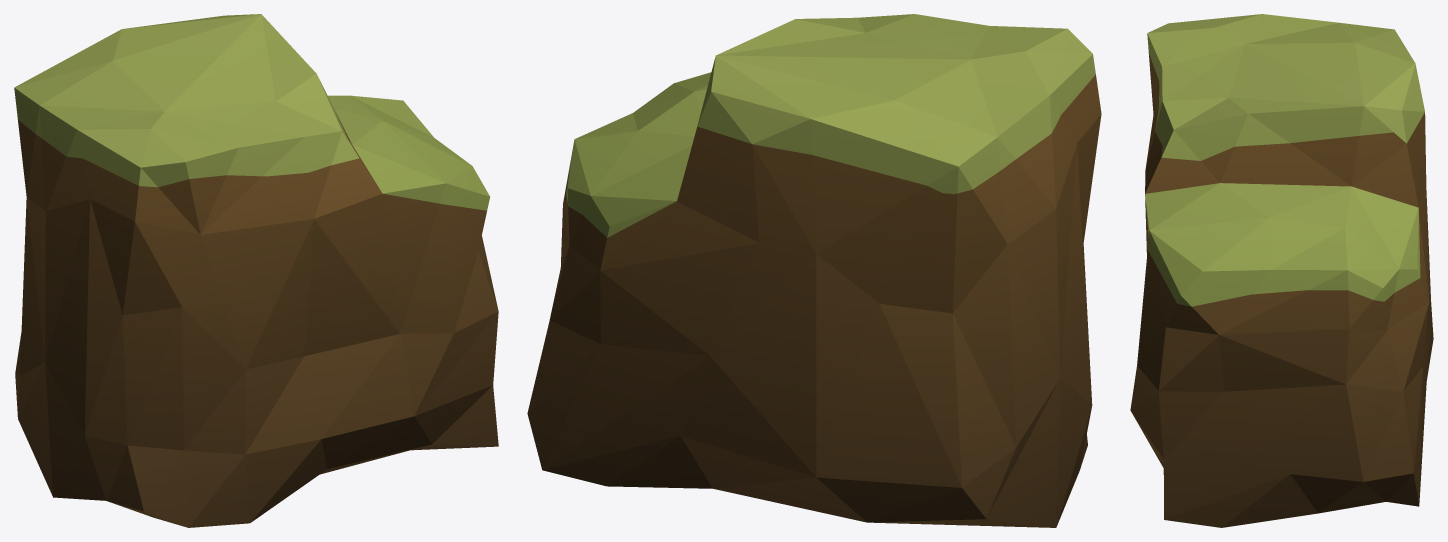
Rendered from Ground_01.fbx.
3 views of the same model, side by side, from view 1: azimuth 30°, elevation 25°; view 2: azimuth 150°, elevation 25°; view 3: azimuth 270°, elevation 25° (orthographic). The views are drawn at different scales.
Parts seen in each view (by area): view 1: Ground_01; view 2: Ground_01; view 3: Ground_01.
Part boxes in pixels (x1,y1,x2,y2): Ground_01: (14,14,498,527); Ground_01: (527,14,1101,527); Ground_01: (1130,14,1433,527).
Bounding box in the file's own units: 5.02 × 4.64 × 3.45.
